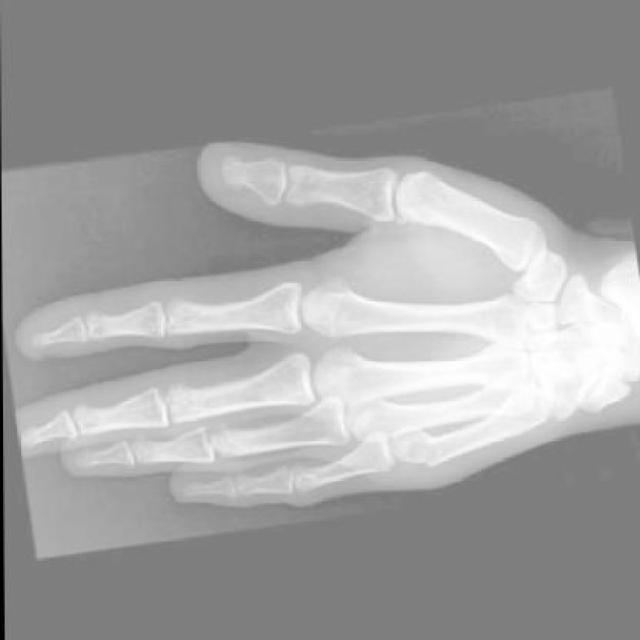Fracture: (382, 425, 452, 478)
